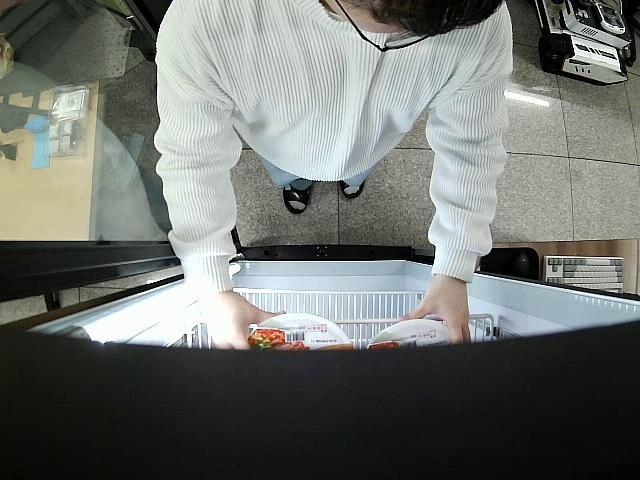10_wangTtukkeong: (248, 313, 353, 354), (369, 320, 452, 347)
